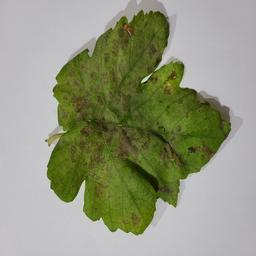Powdery-Mildew: (72, 95, 108, 174), (107, 26, 145, 58), (150, 66, 180, 101), (115, 128, 144, 157), (178, 100, 199, 125), (130, 208, 146, 224)
